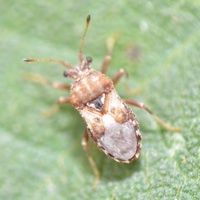insect: (23, 15, 181, 188)
